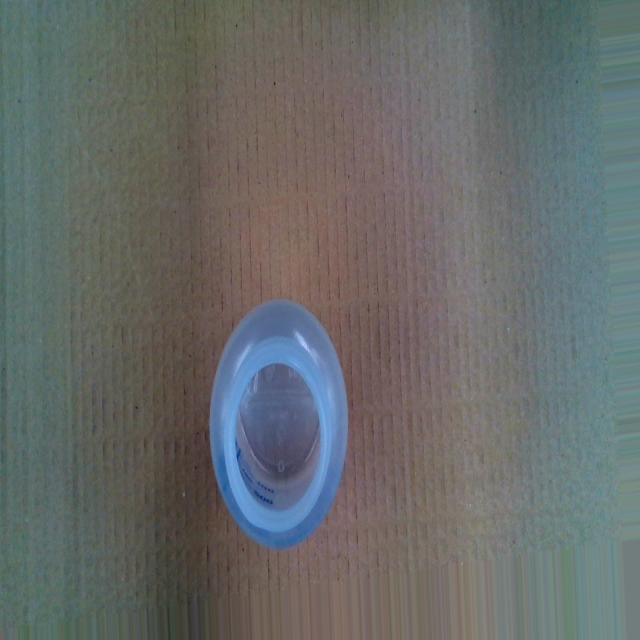bottle: (207, 302, 351, 552)
